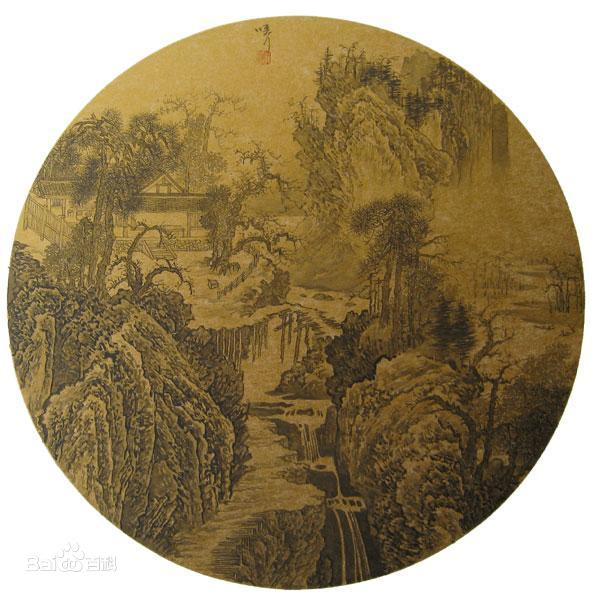bridge: (227, 301, 342, 348)
hill: (27, 290, 236, 517), (304, 60, 456, 208), (341, 364, 455, 548)
house: (36, 167, 222, 261)
river: (472, 257, 550, 363)
tree: (361, 203, 476, 352)
waterfall: (291, 402, 371, 587)
